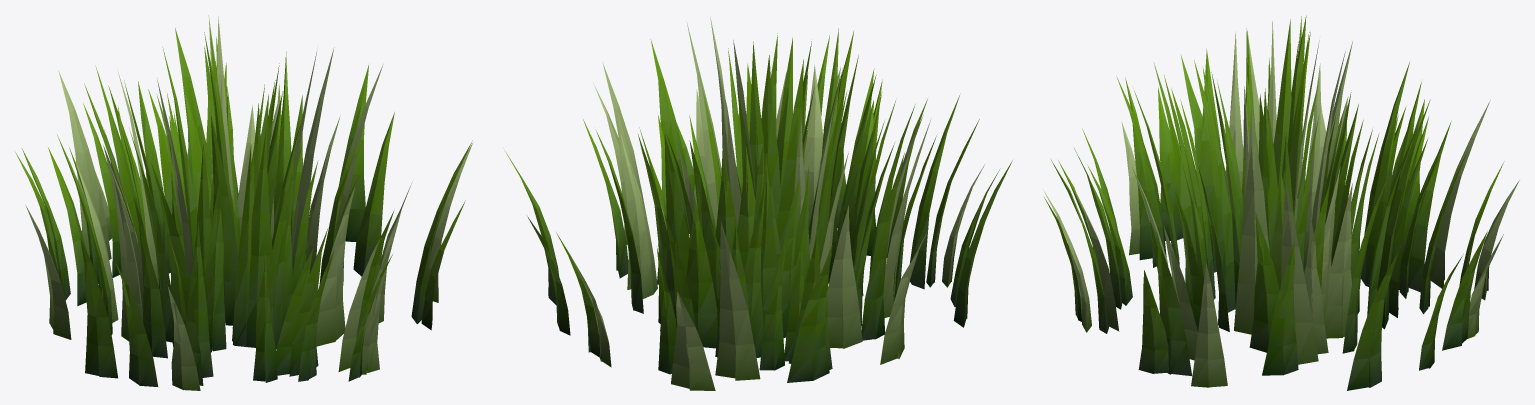
The model's file is vegetasi_grass_moss_192967.glb.
The picture shows the model from 3 angles, left to right: view 1: azimuth 30°, elevation 25°; view 2: azimuth 150°, elevation 25°; view 3: azimuth 270°, elevation 25°; orthographic projection.
Parts seen in each view (by area): view 1: Rumpun_Rumput_Liar; view 2: Rumpun_Rumput_Liar; view 3: Rumpun_Rumput_Liar.
Part boxes in pixels (<box>): Rumpun_Rumput_Liar: <box>15,15,473,390</box>; Rumpun_Rumput_Liar: <box>504,17,1012,390</box>; Rumpun_Rumput_Liar: <box>1043,15,1519,390</box>.
Size of the model in its own units: 3.09 by 2.05 by 3.18.
